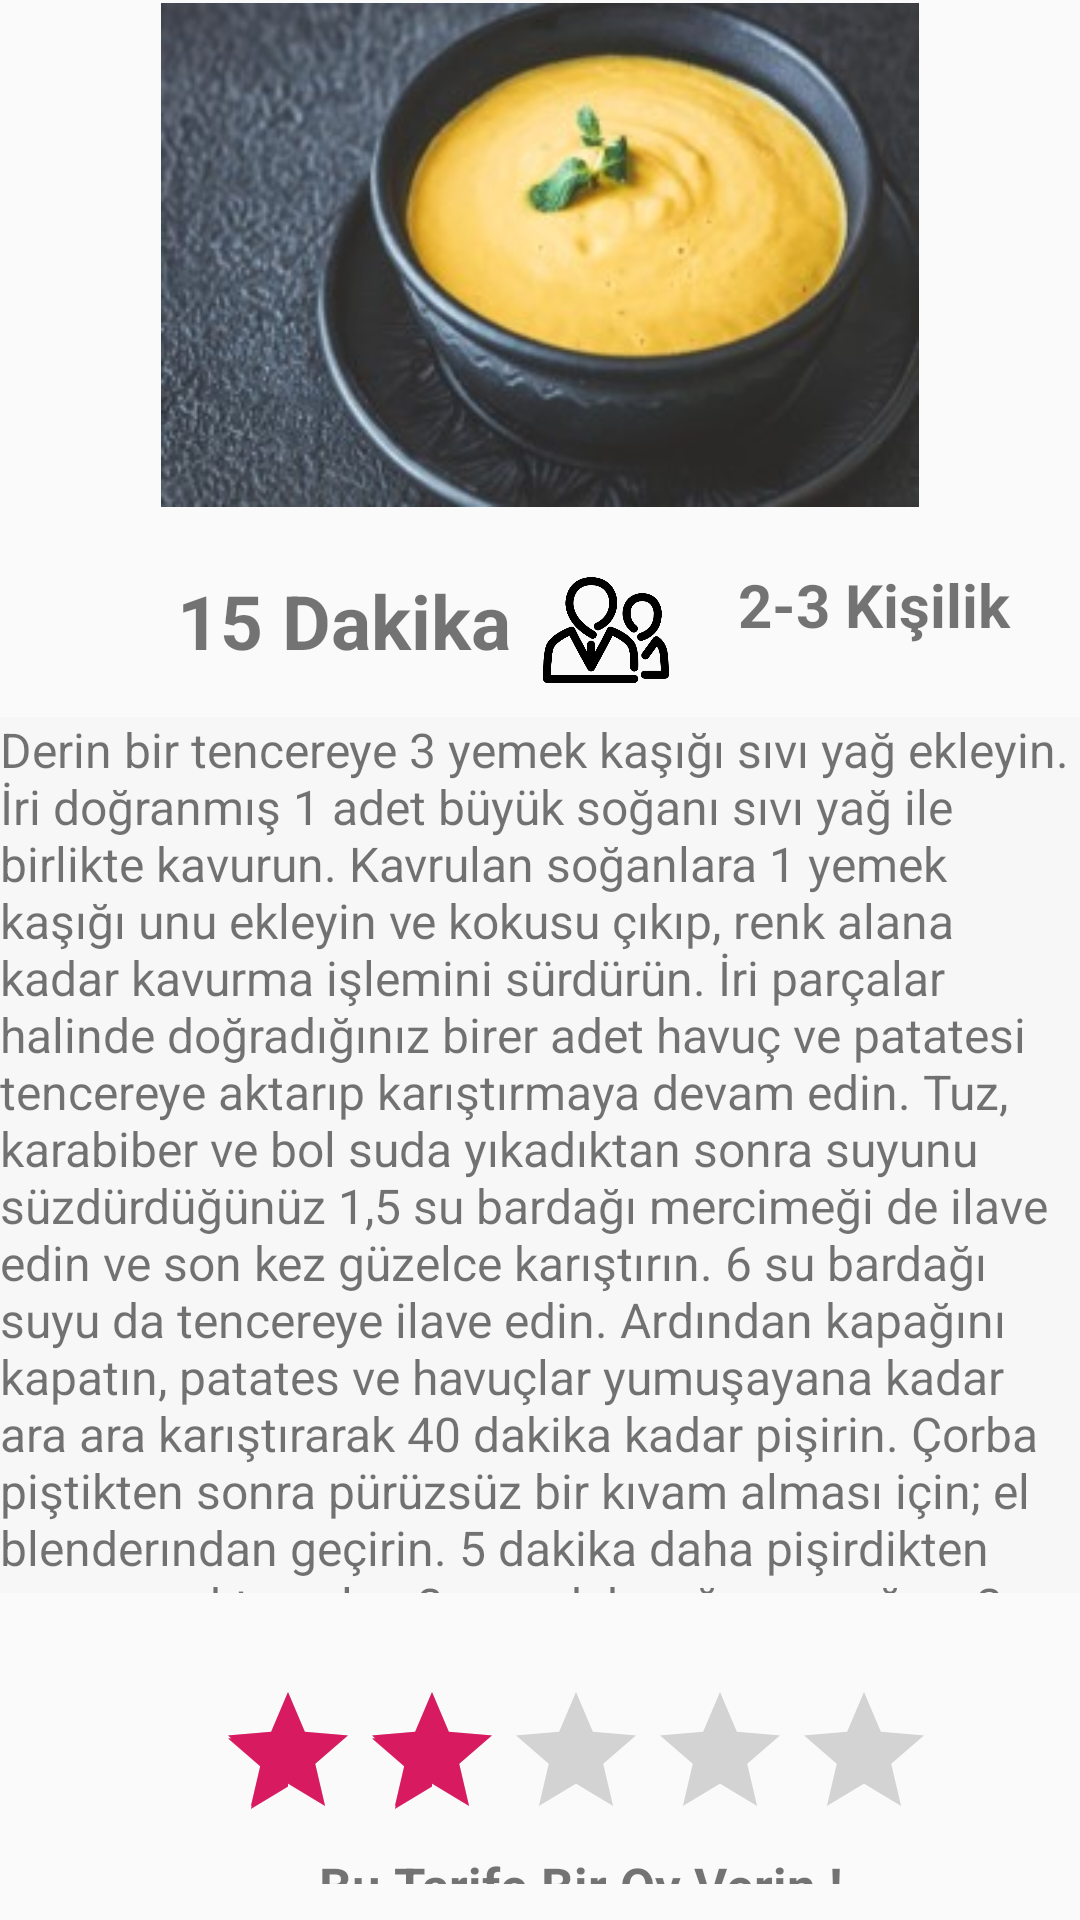

Named icons in this screenshot (1080*1920) and their centers, [x,y]:
personicon: [606,630]
